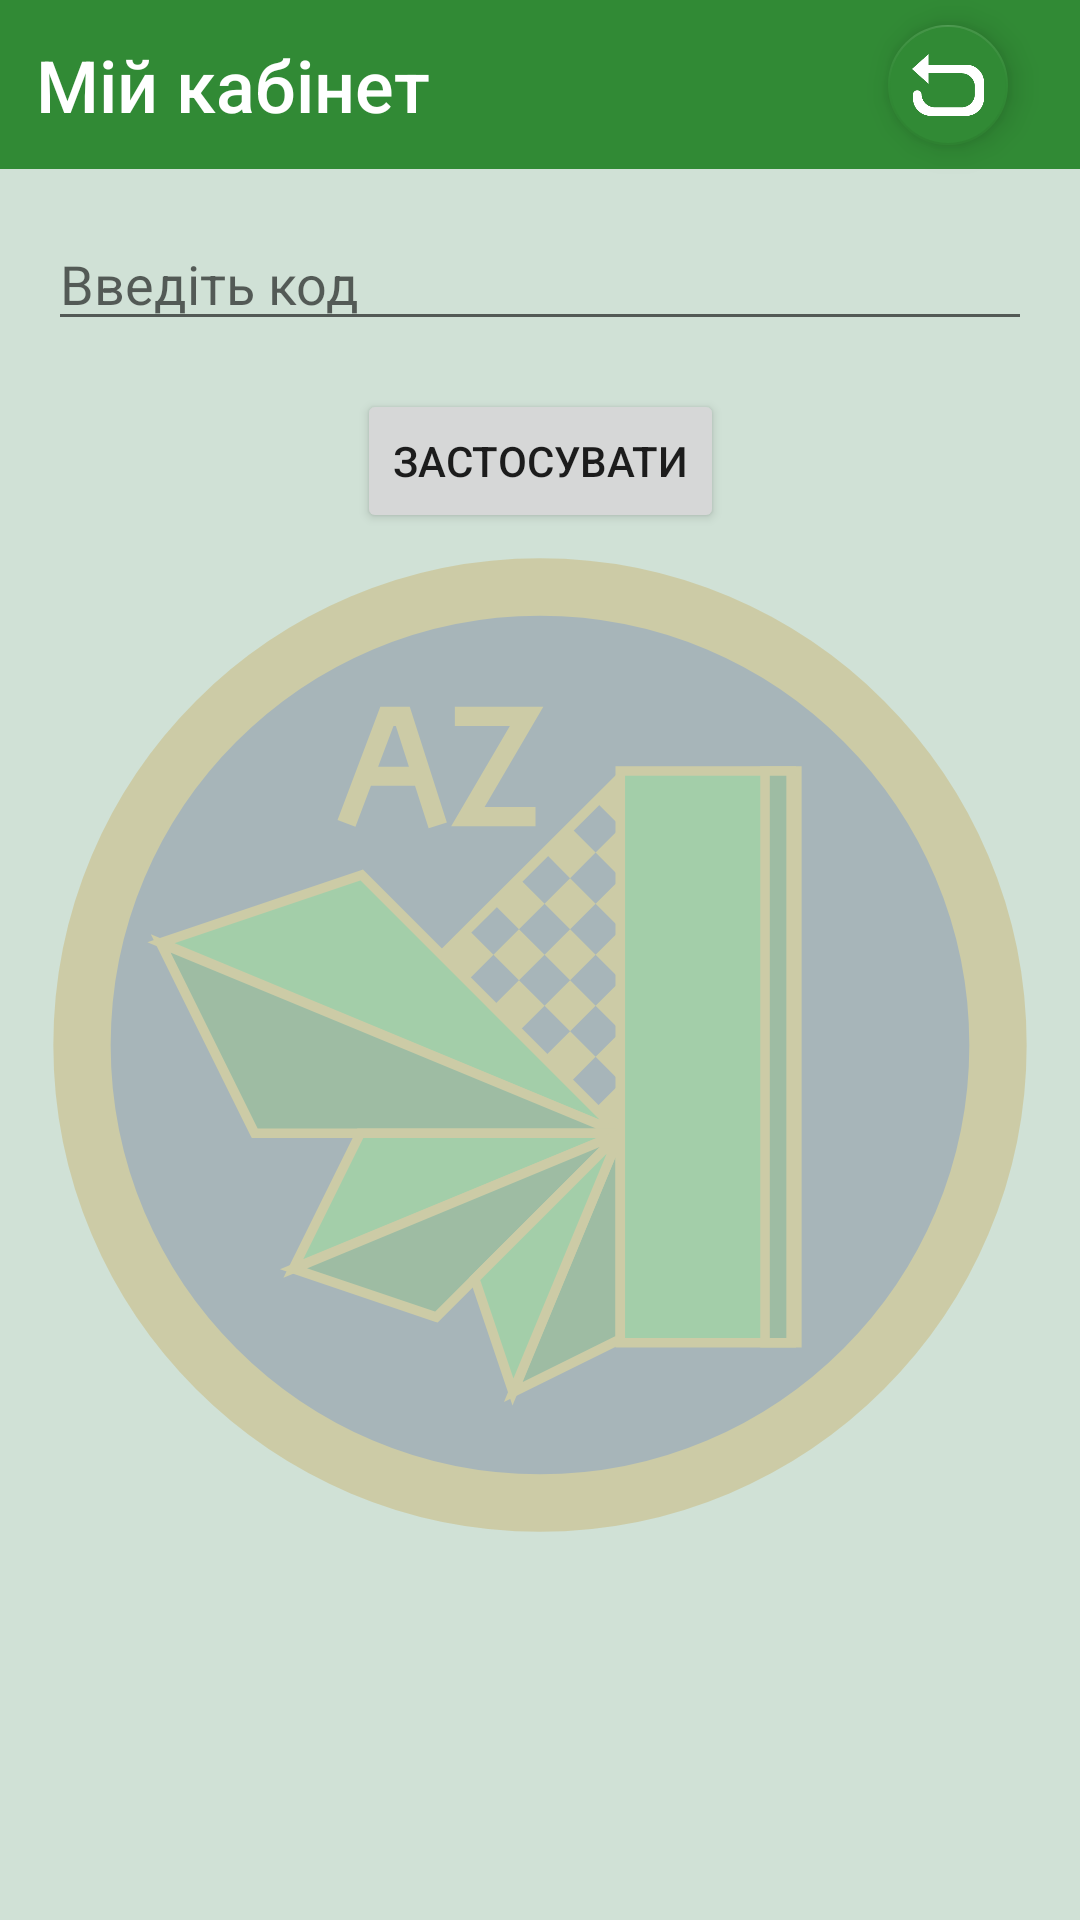

Screen size 1080 × 1920. Icon name, then its center in pixels as (x,y):
back item: (948,70)
